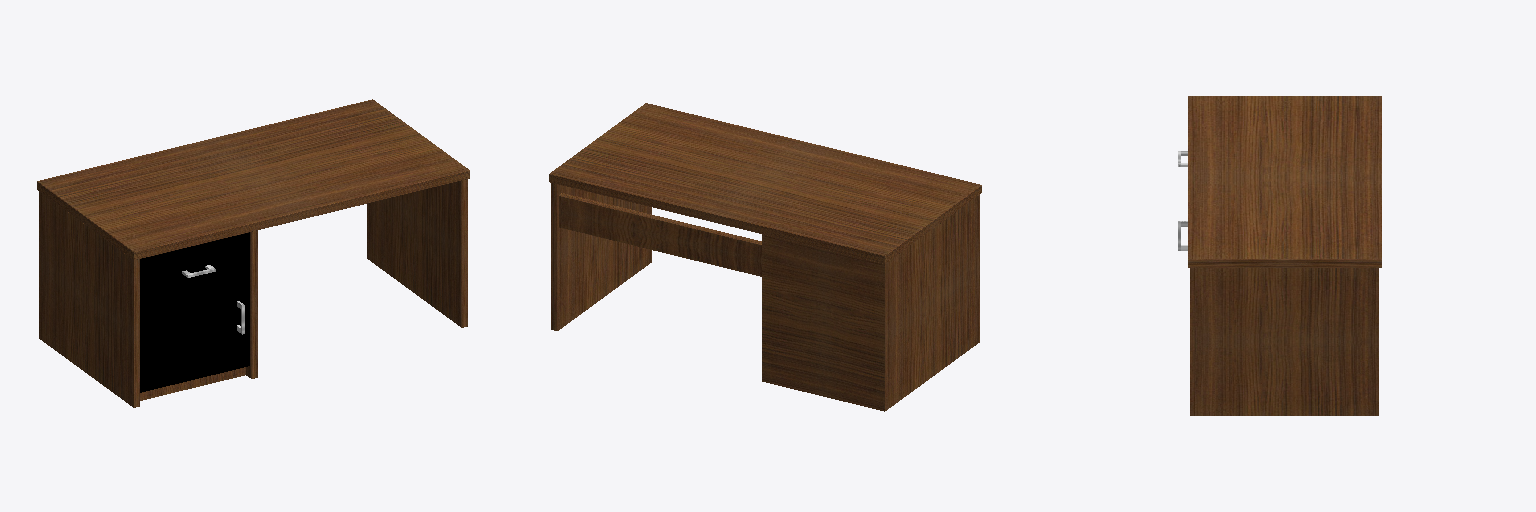
3 renders of one model, left to right at view 1: azimuth 30°, elevation 25°; view 2: azimuth 150°, elevation 25°; view 3: azimuth 270°, elevation 25°, orthographic.
Parts seen in each view (by area): view 1: Desk1_Polygon:Door3; view 2: Desk1_Polygon:Door3; view 3: Desk1_Polygon:Door3.
Part boxes in pixels (bbox=[...]): Desk1_Polygon:Door3: bbox=[37, 99, 469, 407]; Desk1_Polygon:Door3: bbox=[549, 103, 981, 411]; Desk1_Polygon:Door3: bbox=[1178, 96, 1381, 415].
Size of the model in its own units: 2.69 by 1.2 by 1.42.
Materials: 3 (2 with a texture image).